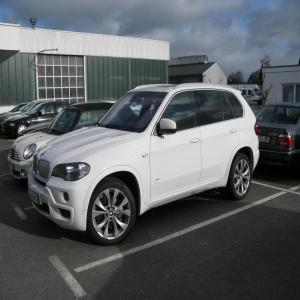Vehicle-registration-plate: (29, 188, 41, 206), (261, 136, 271, 146)
